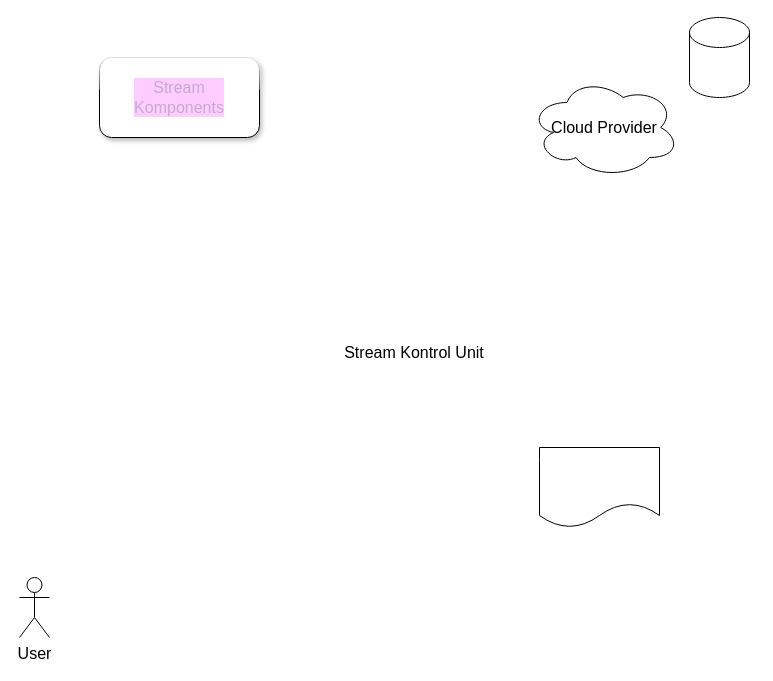
This 773x681 diagram has some shape labels left out. The shapes that lost their labels are listed below. From the top down, each one's centre as x and y in pixels, then its label:
(x=719, y=57): Tietokanta
(x=599, y=487): Stream Knotify Unit
